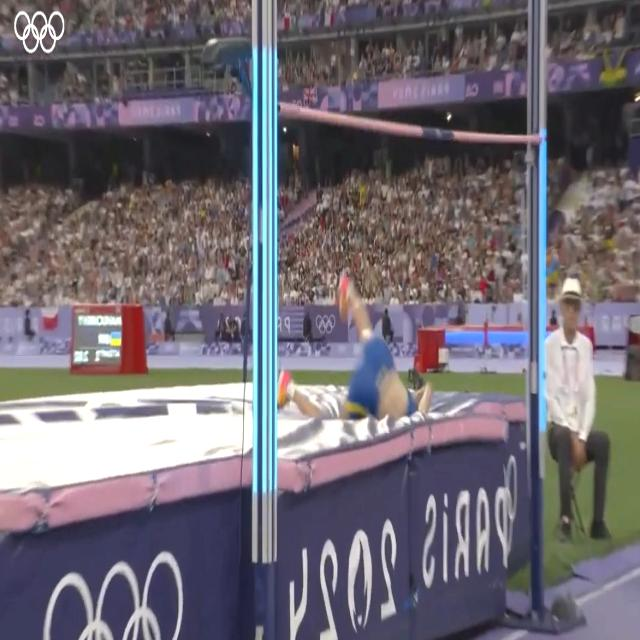land: (278, 269, 433, 423)
